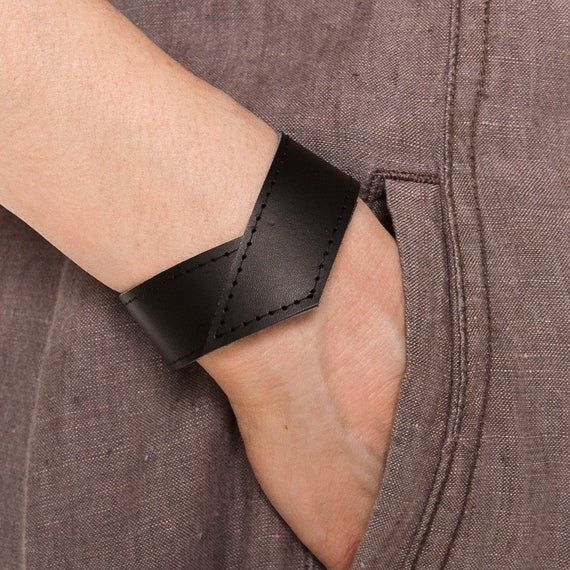cuero: (118, 132, 363, 372)
